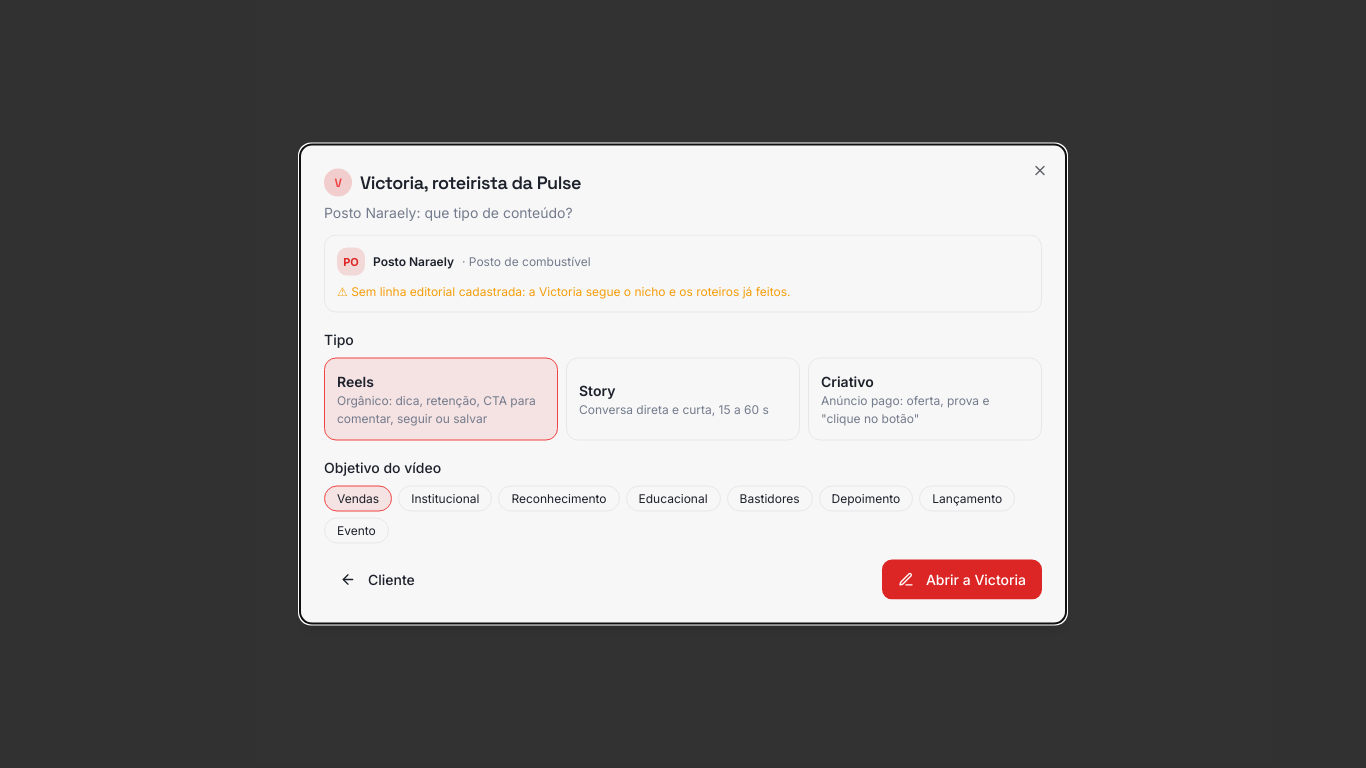
Test: Victoria: tela no Copy › cliente → tipo → ideia → correção → salva no cliente
Earlier steps of the test are not shown.
Later steps or results of the test are not shown.
Click the button "Criativo Anúncio pago: oferta, prova e \"clique no botão\"" at (925,399), box [808,358,1042,440]
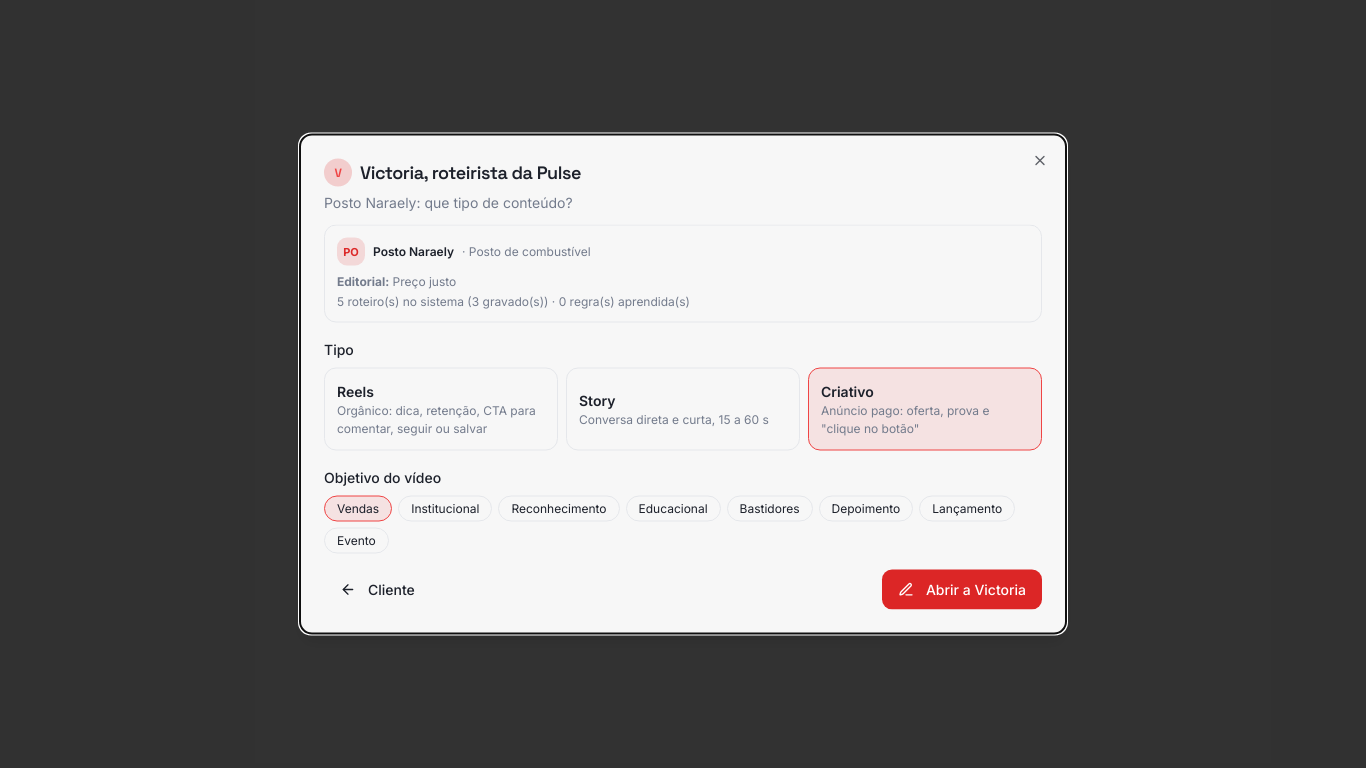
Click the button "Abrir a Victoria" at (962,590), box [882,570,1042,610]
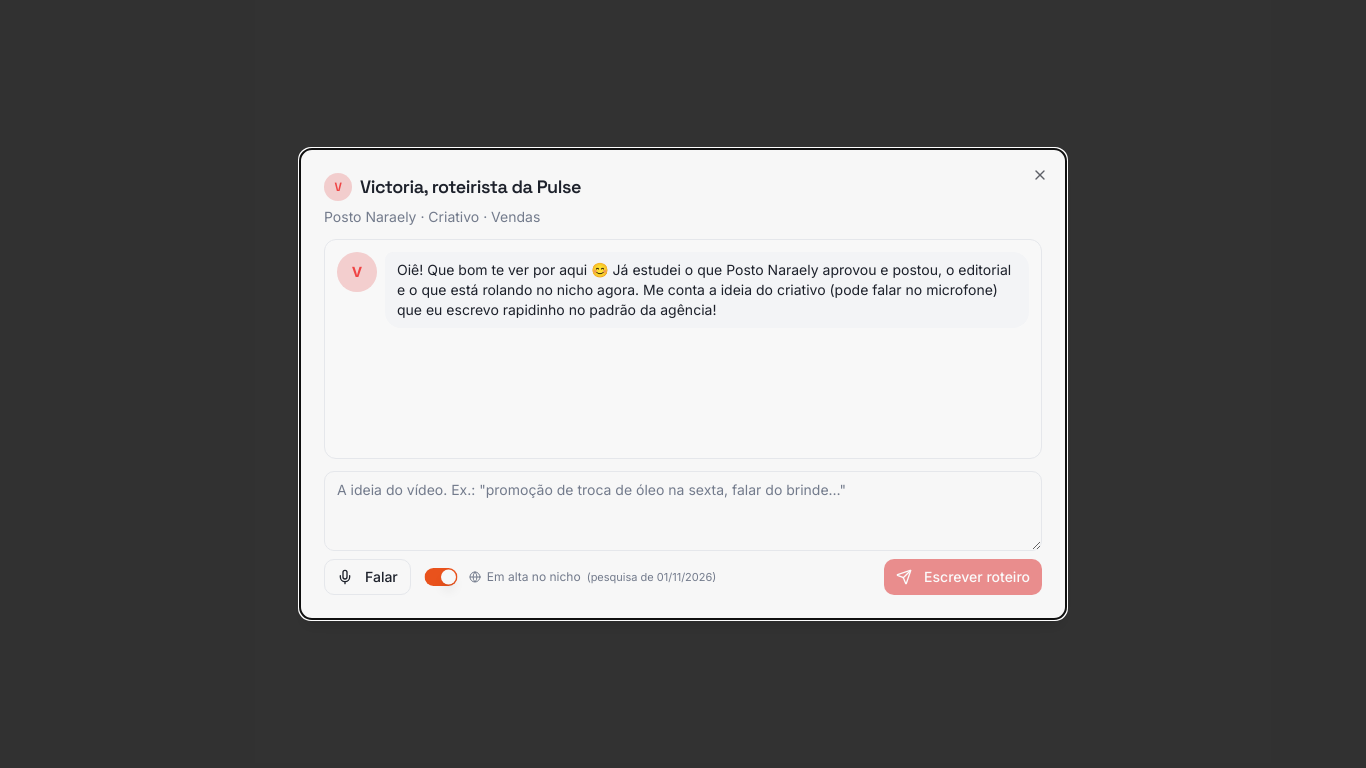
Check: the text "(pesquisa de 01/11/2026)" is shown, box [587,569,716,585]
Replace the text in the text box named "Ideia do roteiro" with "promo de troca de óleo na sexta" at (683,511), box [324,471,1042,551]
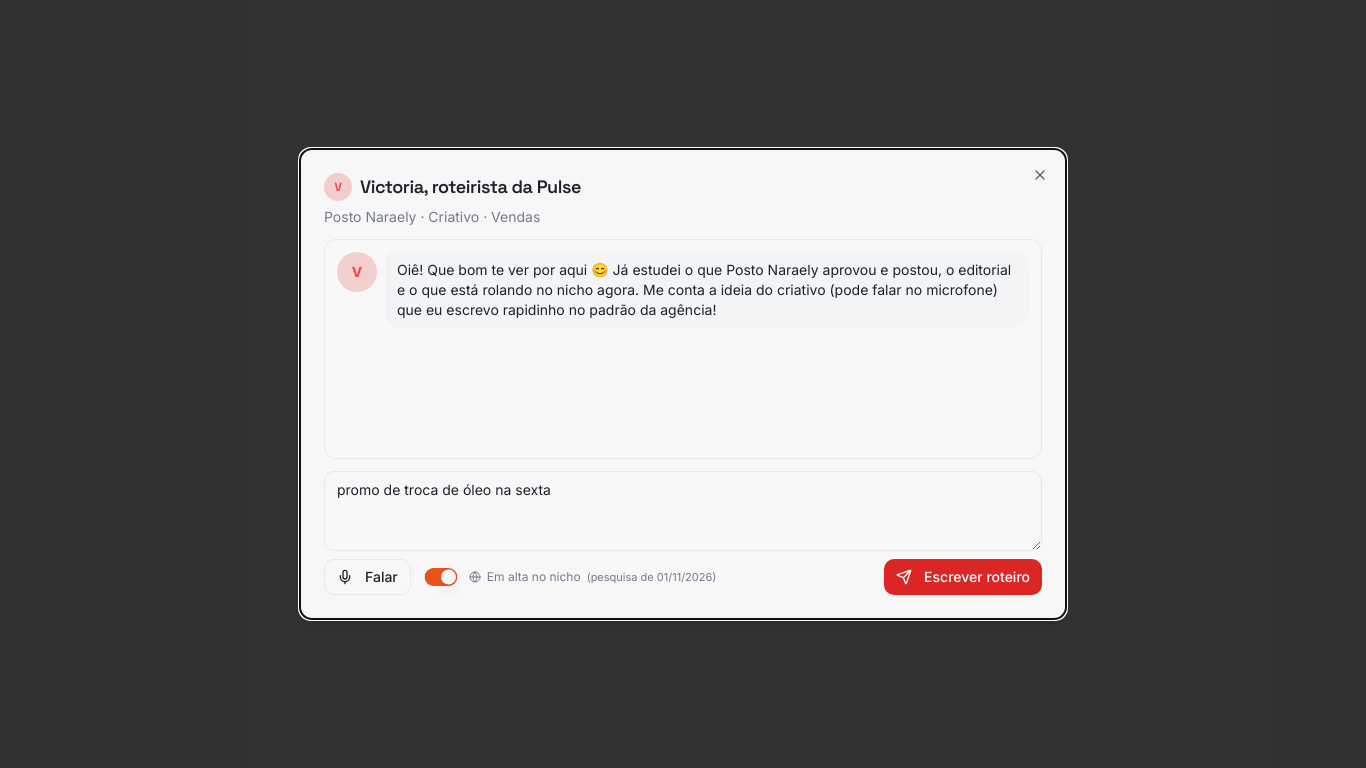
Click the button "Escrever roteiro" at (963,577), box [884,559,1042,595]
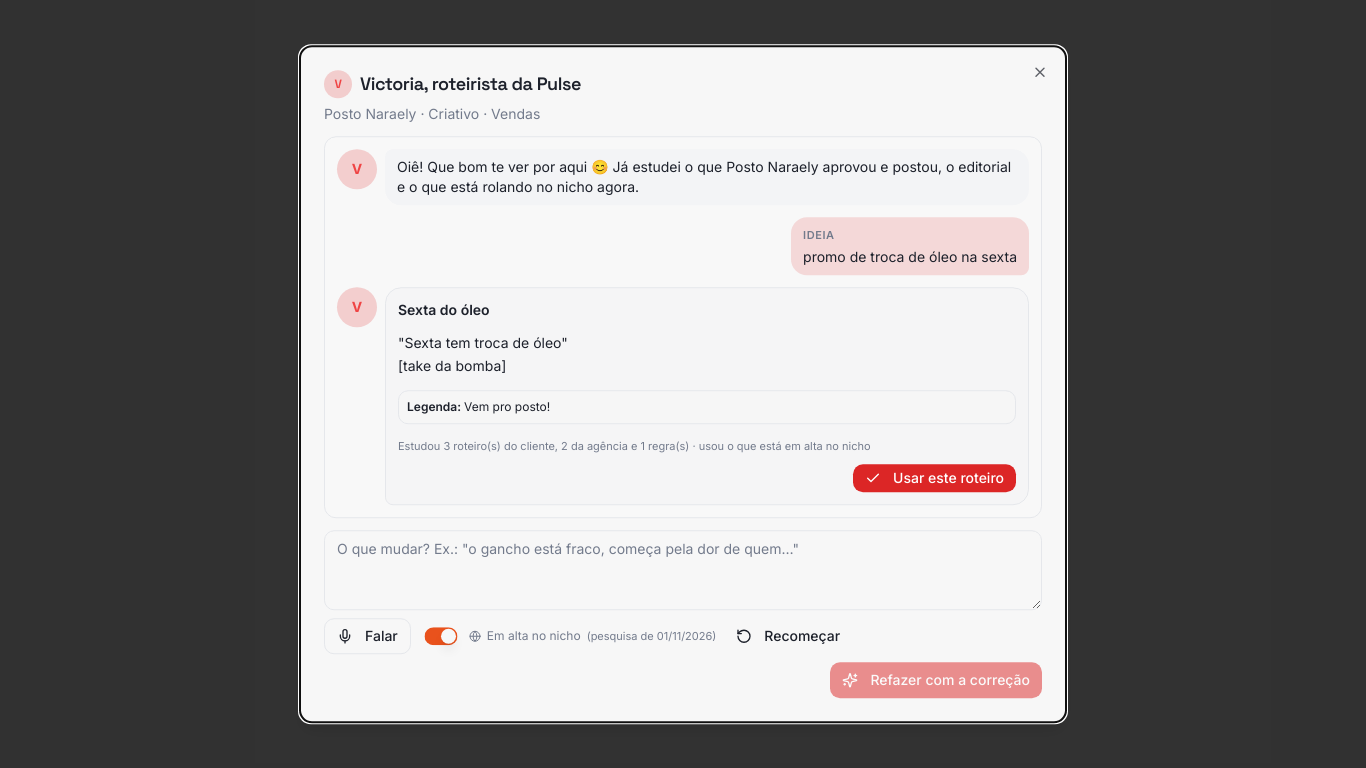
Check: the text "\"Sexta tem troca de óleo\" [take da bomba]" is shown, box [398,334,568,374]
Replace the text in the text box named "Correção para a Victoria" with "fala do café grátis" at (683,570), box [324,530,1042,610]
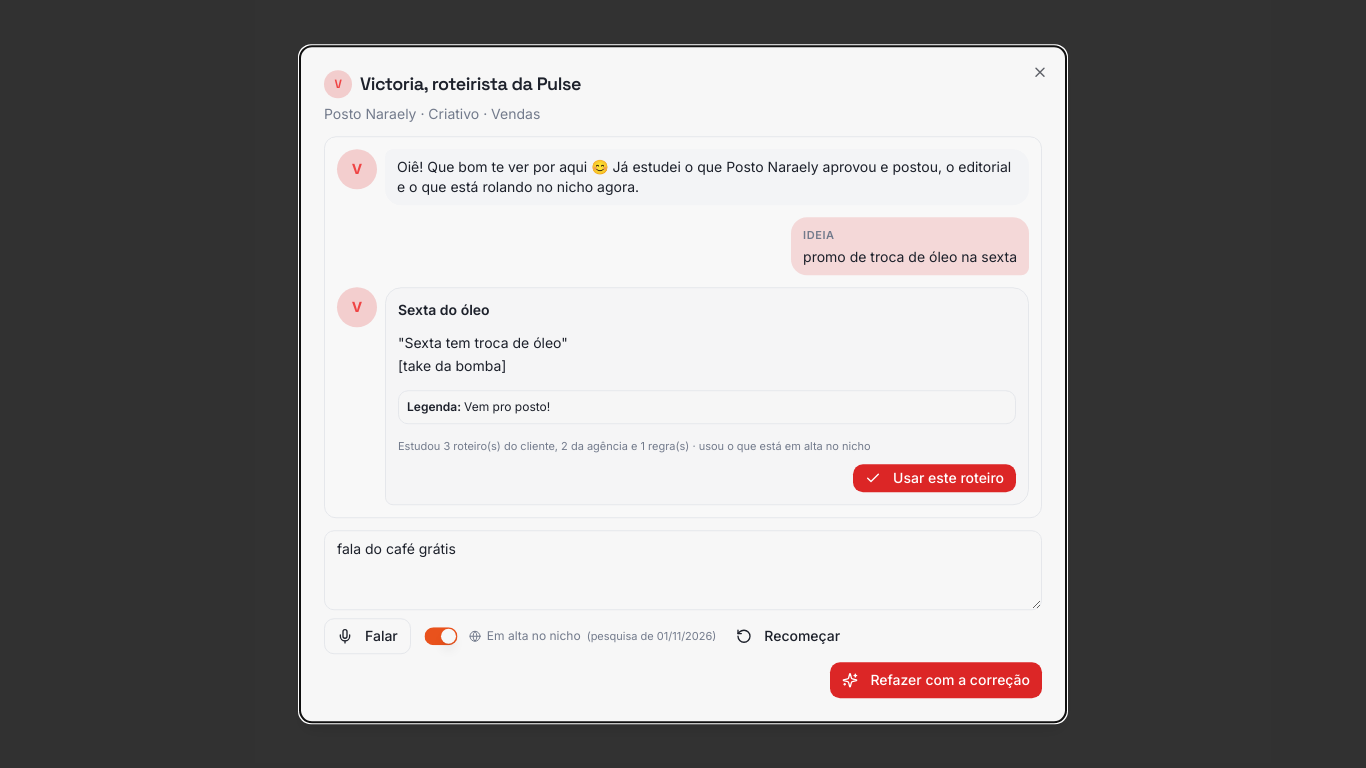
Click the button "Refazer com a correção" at (936,680), box [830,662,1042,698]
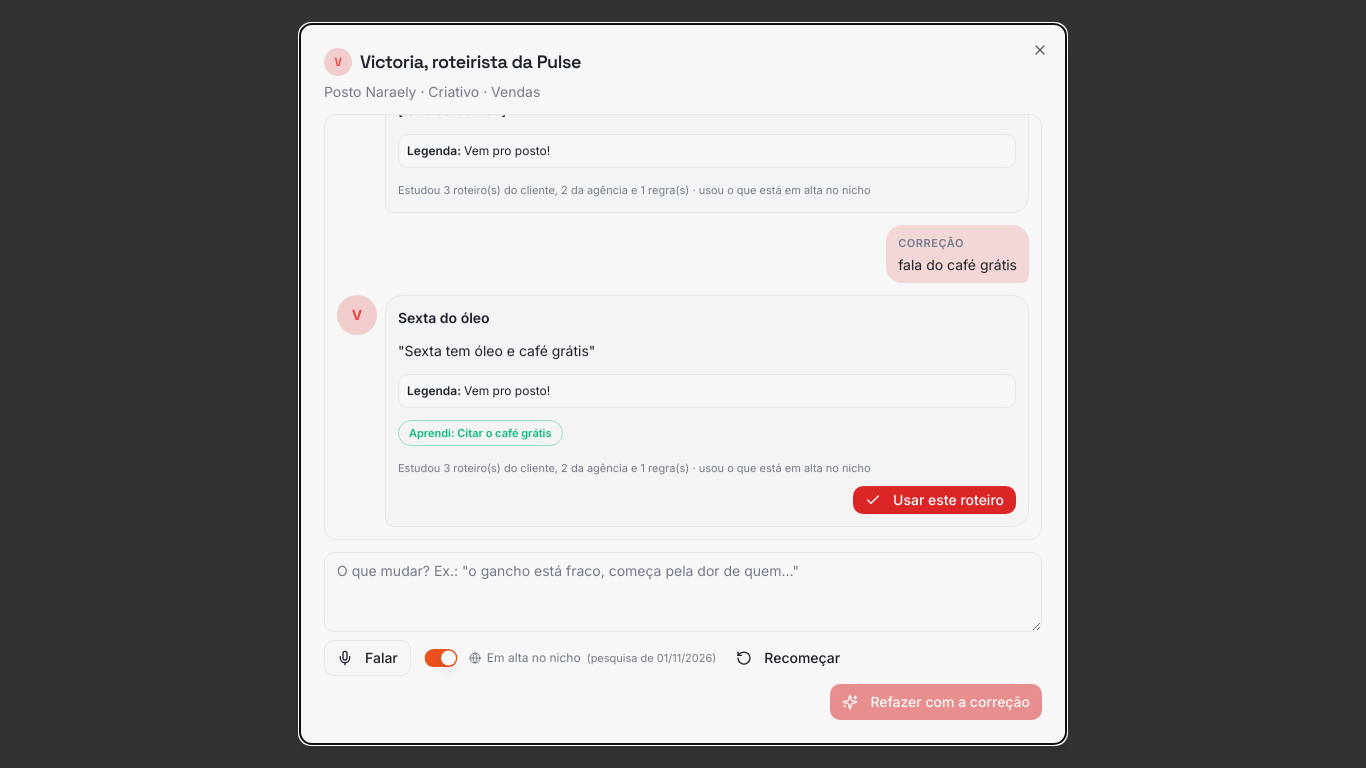
Check: the text "\"Sexta tem óleo e café grátis\"" is shown, box [398,342,595,358]
Check: the text "Aprendi: Citar o café grátis" is shown, box [398,420,562,446]
